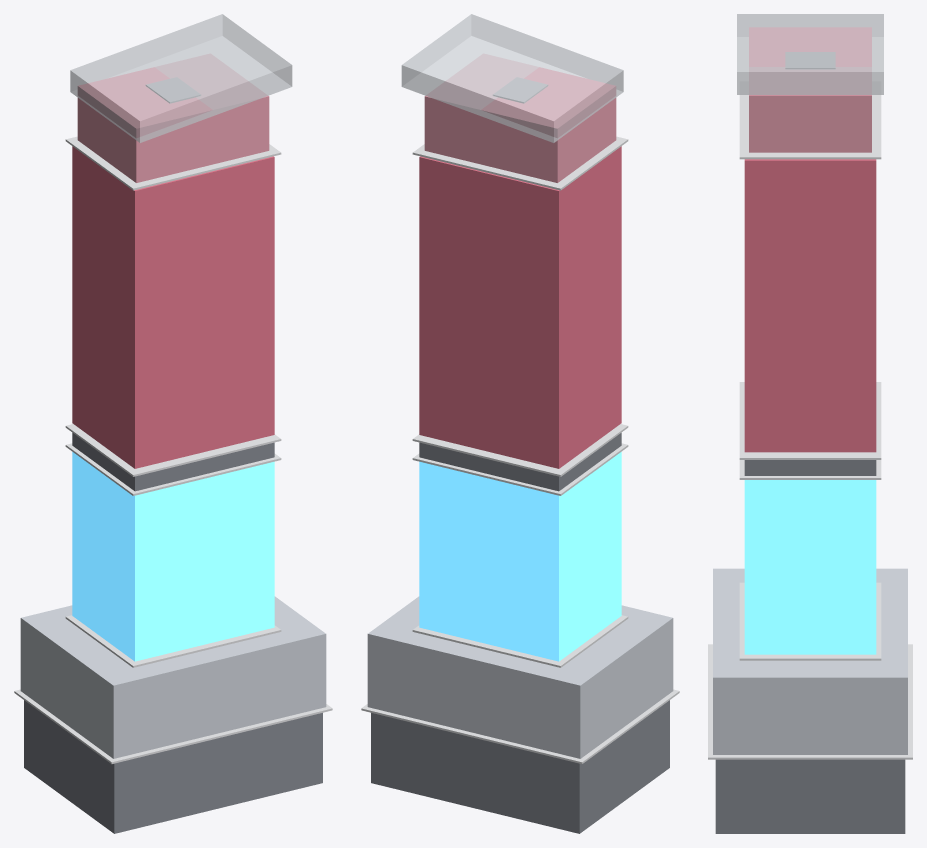
Rendered from light-exchange.glb.
The picture shows the model from 3 angles, left to right: view 1: azimuth 30°, elevation 25°; view 2: azimuth 150°, elevation 25°; view 3: azimuth 270°, elevation 25°; orthographic projection. The views are drawn at different scales.
Visible parts, largest first — view 1: Zone_D_Hyatt_Hotel, Zone_C_Offices, Zone_B_Podium, Zone_A_ME_Plant, Zone_E_Amenities, Facade_Crown_Slope, Zone_ME_L13, Slab_0, Slab_3, Slab_4, Slab_1, Slab_2 (+1 smaller); view 2: Zone_D_Hyatt_Hotel, Zone_C_Offices, Zone_B_Podium, Zone_A_ME_Plant, Zone_E_Amenities, Facade_Crown_Slope, Zone_ME_L13, Slab_0, Slab_3, Slab_4, Slab_1, Slab_2 (+1 smaller); view 3: Zone_D_Hyatt_Hotel, Zone_B_Podium, Zone_C_Offices, Zone_E_Amenities, Zone_A_ME_Plant, Facade_Crown_Slope, Slab_4, Slab_0, Zone_ME_L13, Slab_3, Slab_1, Core_Vertical_Circulation (+1 smaller).
Boxes of the visible parts, left/top/right/bottom form: Zone_D_Hyatt_Hotel: left=72, top=146, right=274, bottom=468; Zone_C_Offices: left=72, top=452, right=274, bottom=661; Zone_B_Podium: left=20, top=596, right=326, bottom=758; Zone_A_ME_Plant: left=24, top=700, right=322, bottom=833; Zone_E_Amenities: left=77, top=54, right=269, bottom=182; Facade_Crown_Slope: left=70, top=14, right=292, bottom=142; Zone_ME_L13: left=72, top=433, right=274, bottom=491; Slab_0: left=14, top=689, right=332, bottom=763; Slab_3: left=65, top=424, right=281, bottom=476; Slab_4: left=65, top=136, right=281, bottom=190; Slab_1: left=65, top=615, right=281, bottom=667; Slab_2: left=65, top=443, right=281, bottom=495; Zone_D_Hyatt_Hotel: left=419, top=146, right=621, bottom=468; Zone_C_Offices: left=419, top=452, right=621, bottom=661; Zone_B_Podium: left=367, top=596, right=673, bottom=758; Zone_A_ME_Plant: left=371, top=700, right=669, bottom=833; Zone_E_Amenities: left=424, top=54, right=616, bottom=182; Facade_Crown_Slope: left=401, top=14, right=623, bottom=142; Zone_ME_L13: left=419, top=433, right=621, bottom=491; Slab_0: left=361, top=689, right=679, bottom=763; Slab_3: left=412, top=424, right=628, bottom=476; Slab_4: left=412, top=136, right=628, bottom=190; Slab_1: left=412, top=615, right=628, bottom=667; Slab_2: left=412, top=443, right=628, bottom=495; Zone_D_Hyatt_Hotel: left=744, top=159, right=876, bottom=452; Zone_B_Podium: left=713, top=568, right=907, bottom=754; Zone_C_Offices: left=744, top=480, right=876, bottom=654; Zone_E_Amenities: left=749, top=27, right=871, bottom=152; Zone_A_ME_Plant: left=715, top=759, right=905, bottom=833; Facade_Crown_Slope: left=737, top=14, right=883, bottom=94; Slab_4: left=739, top=82, right=881, bottom=159; Slab_0: left=708, top=644, right=912, bottom=759; Zone_ME_L13: left=744, top=460, right=876, bottom=475; Slab_3: left=739, top=382, right=881, bottom=459; Slab_1: left=739, top=582, right=881, bottom=660; Core_Vertical_Circulation: left=785, top=52, right=835, bottom=68.
Bounding box in the file's own units: 42.4 × 131 × 32.4.
